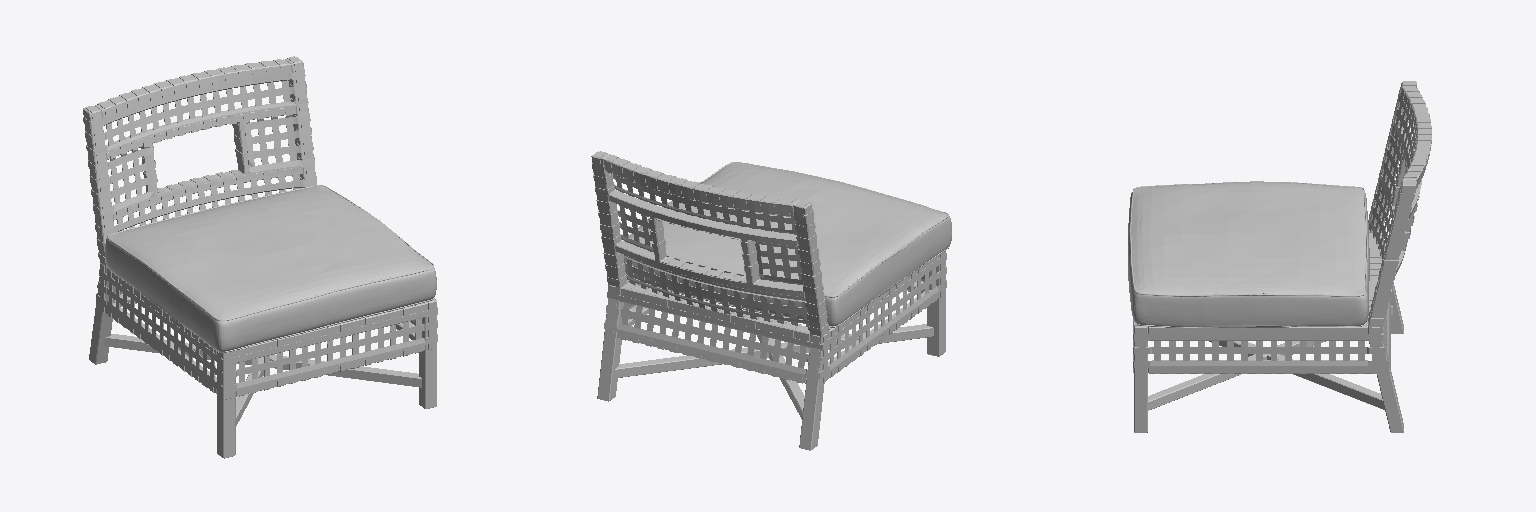
File: armchair 006.obj
3 renders of one model, left to right at view 1: azimuth 30°, elevation 25°; view 2: azimuth 150°, elevation 25°; view 3: azimuth 270°, elevation 25°, orthographic.
Visible parts, largest first — view 1: obj_03, obj_02, obj_04, obj_01; view 2: obj_03, obj_04, obj_02, obj_01; view 3: obj_03, obj_04, obj_01, obj_02.
Boxes of the visible parts, <box> form: obj_03: <box>105,185,436,352</box>; obj_02: <box>83,56,316,262</box>; obj_04: <box>83,57,436,458</box>; obj_01: <box>96,263,437,399</box>; obj_03: <box>623,162,951,327</box>; obj_04: <box>591,151,945,450</box>; obj_02: <box>592,151,828,333</box>; obj_01: <box>604,252,946,386</box>; obj_03: <box>1128,181,1369,328</box>; obj_04: <box>1134,81,1431,432</box>; obj_01: <box>1133,230,1390,373</box>; obj_02: <box>1368,82,1431,324</box>.
Bounding box in the file's own units: 29.15 × 30.52 × 33.99.